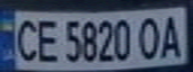0: (112, 16, 136, 62)
2: (97, 17, 118, 63)
5: (60, 16, 81, 63)
8: (78, 17, 100, 63)
A: (157, 11, 187, 60)
C: (9, 15, 42, 63)
E: (33, 16, 63, 64)
O: (136, 14, 163, 61)
